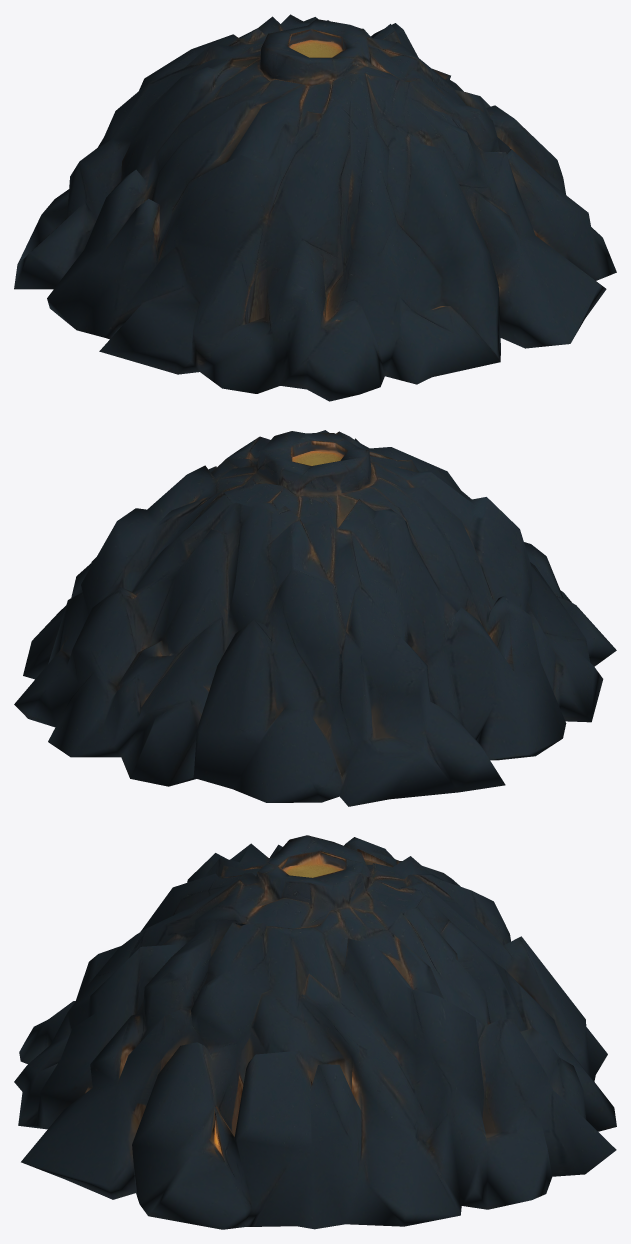
File: brimstone_vent.glb
3 renders of one model, top to bottom at view 1: azimuth 30°, elevation 25°; view 2: azimuth 150°, elevation 25°; view 3: azimuth 270°, elevation 25°, orthographic. The views are drawn at different scales.
Size of the model in its own units: 1.87 by 0.9088 by 1.9.
Materials: 1 (1 with a texture image).
